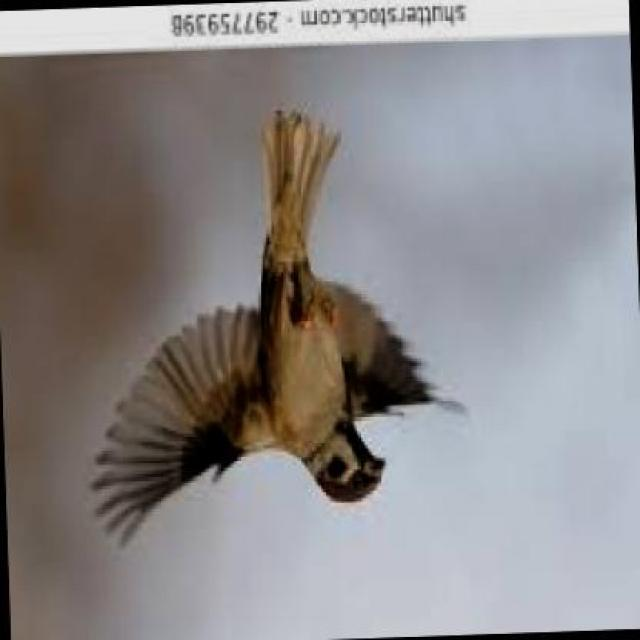Bird: (92, 104, 494, 531)
